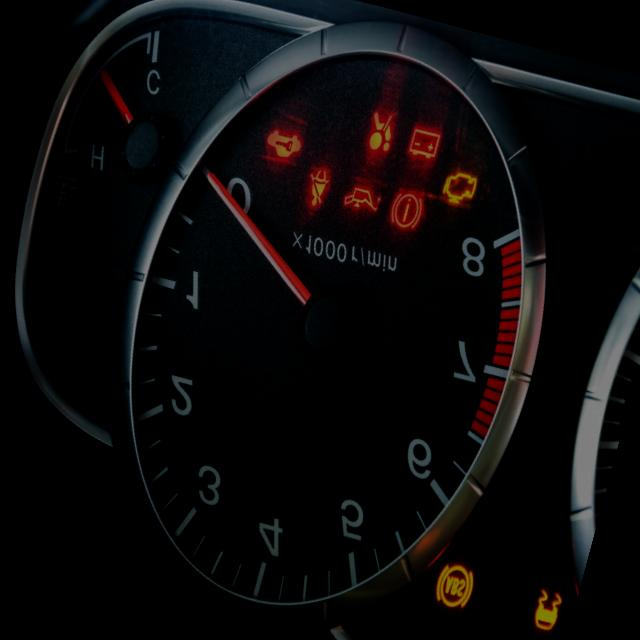kontrolka: (423, 552, 483, 622), (355, 93, 408, 165), (381, 180, 432, 238), (335, 174, 386, 224), (436, 159, 484, 209), (524, 581, 568, 635), (400, 118, 446, 166)
